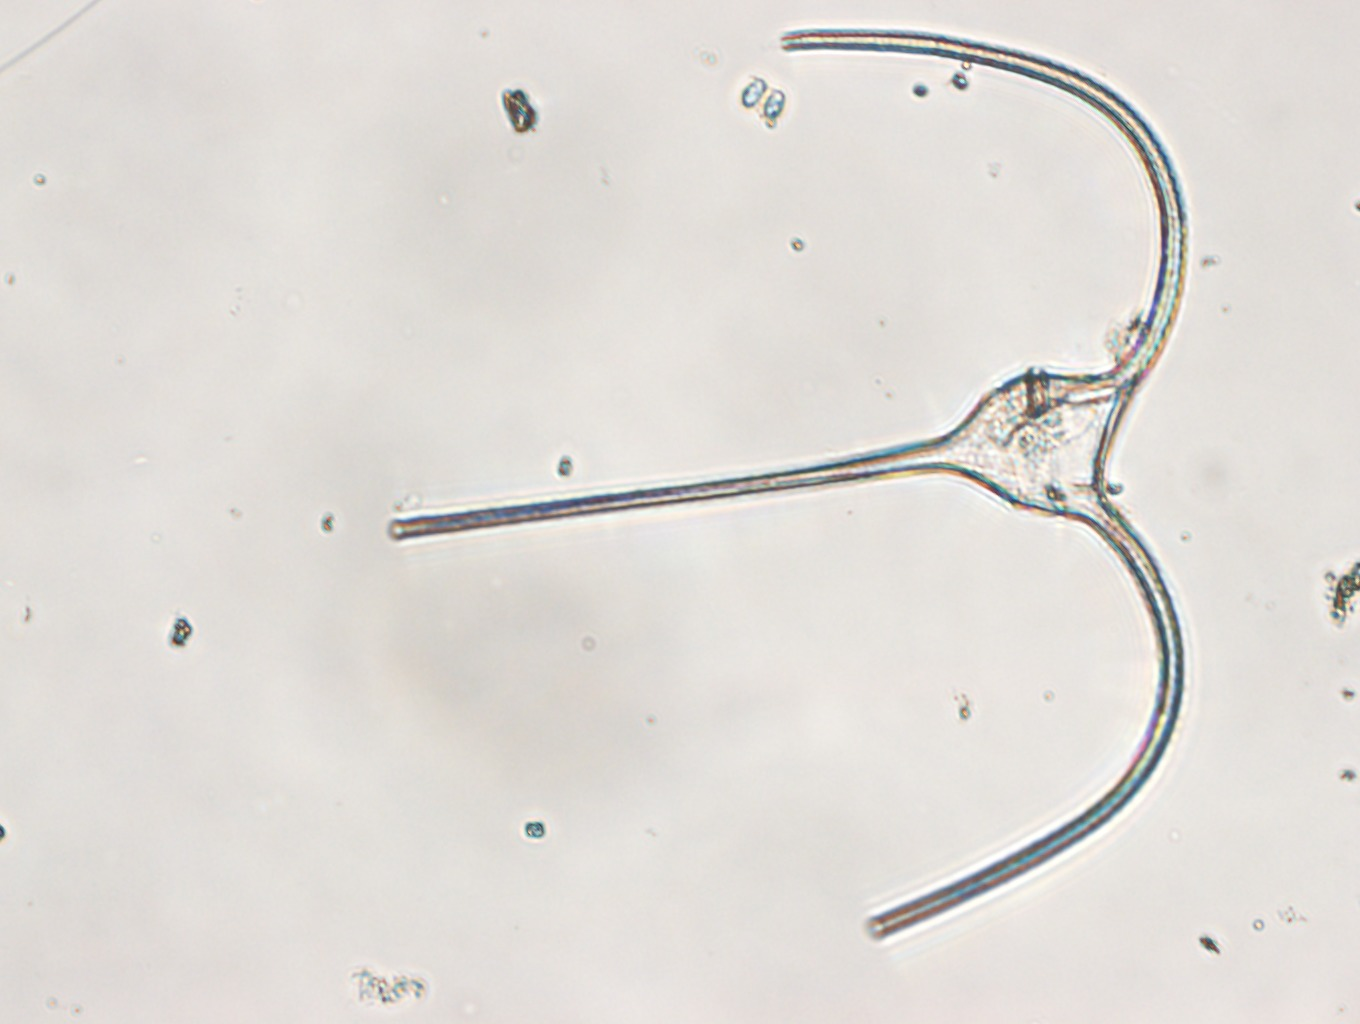ceratium trichoceros: (385, 22, 1196, 948)
